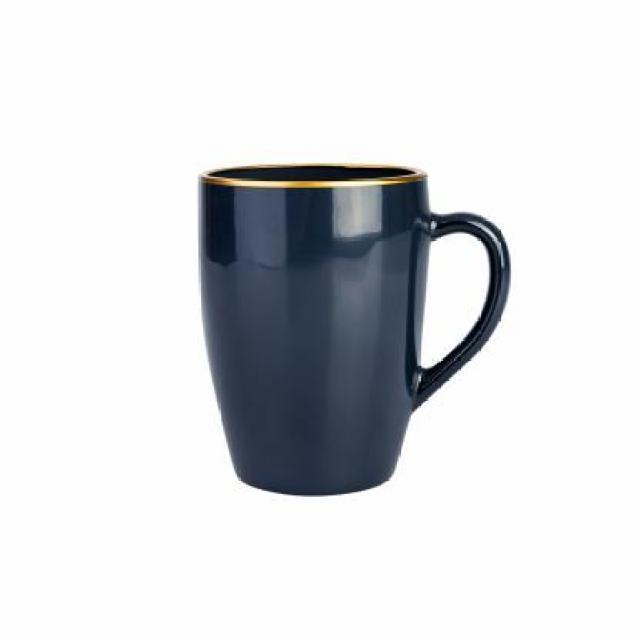taza: (196, 162, 512, 498)
